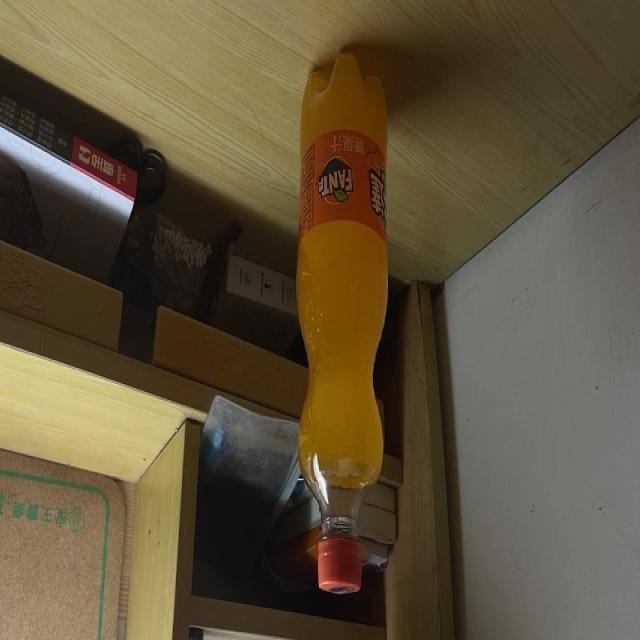Fanta: (296, 45, 388, 594)
